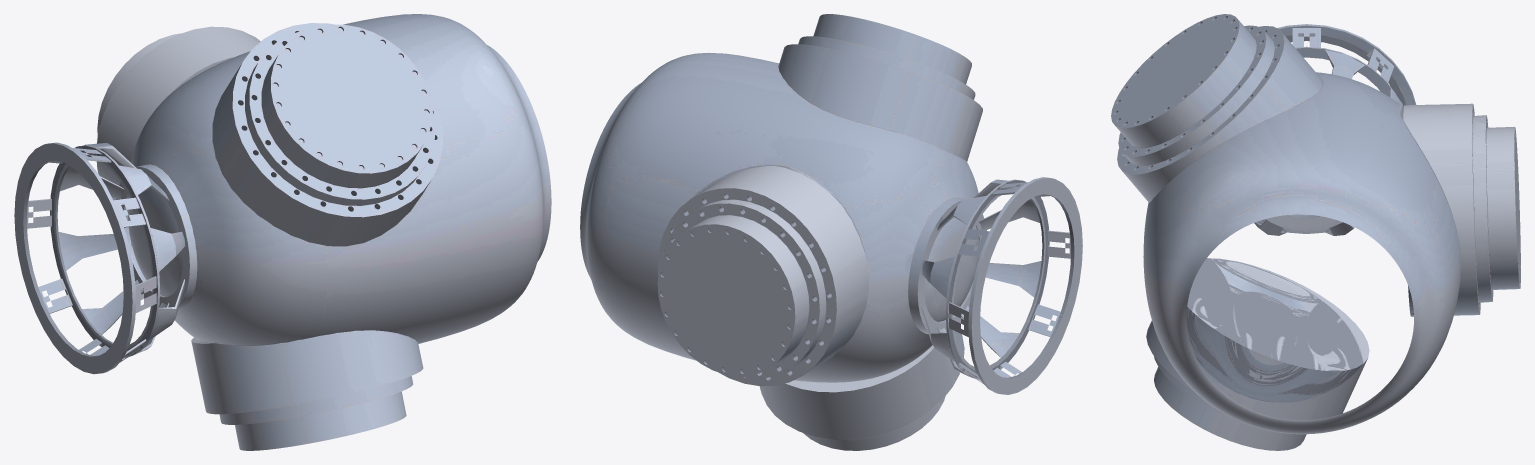
File: toubu.glb
3 views of the same model, side by side, from view 1: azimuth 30°, elevation 25°; view 2: azimuth 150°, elevation 25°; view 3: azimuth 270°, elevation 25° (orthographic). The views are drawn at different scales.
Visible parts, largest first — view 1: 空白, 风叶_1; view 2: 空白, 风叶_1; view 3: 空白, 风叶_1.
Boxes of the visible parts, <box> form: 空白: <box>14,23,442,450</box>; 风叶_1: <box>128,14,551,345</box>; 空白: <box>657,14,1082,450</box>; 风叶_1: <box>580,53,978,382</box>; 空白: <box>1111,14,1520,450</box>; 风叶_1: <box>1143,72,1461,434</box>.
Size of the model in its own units: 11.02 by 10.83 by 9.83.
Materials: 4 (4 with a texture image).
